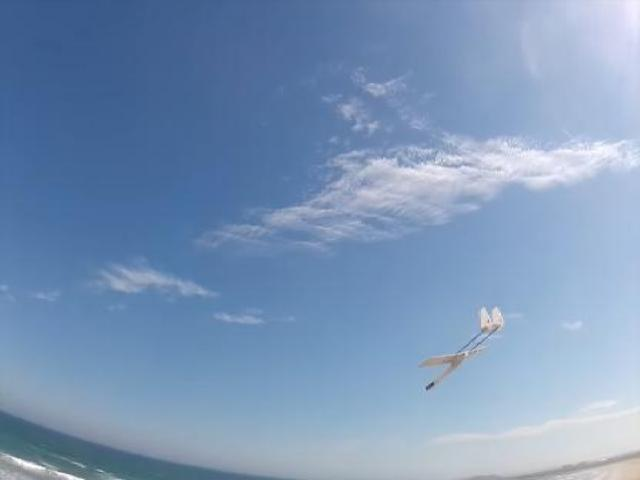uav: (414, 304, 508, 396)
